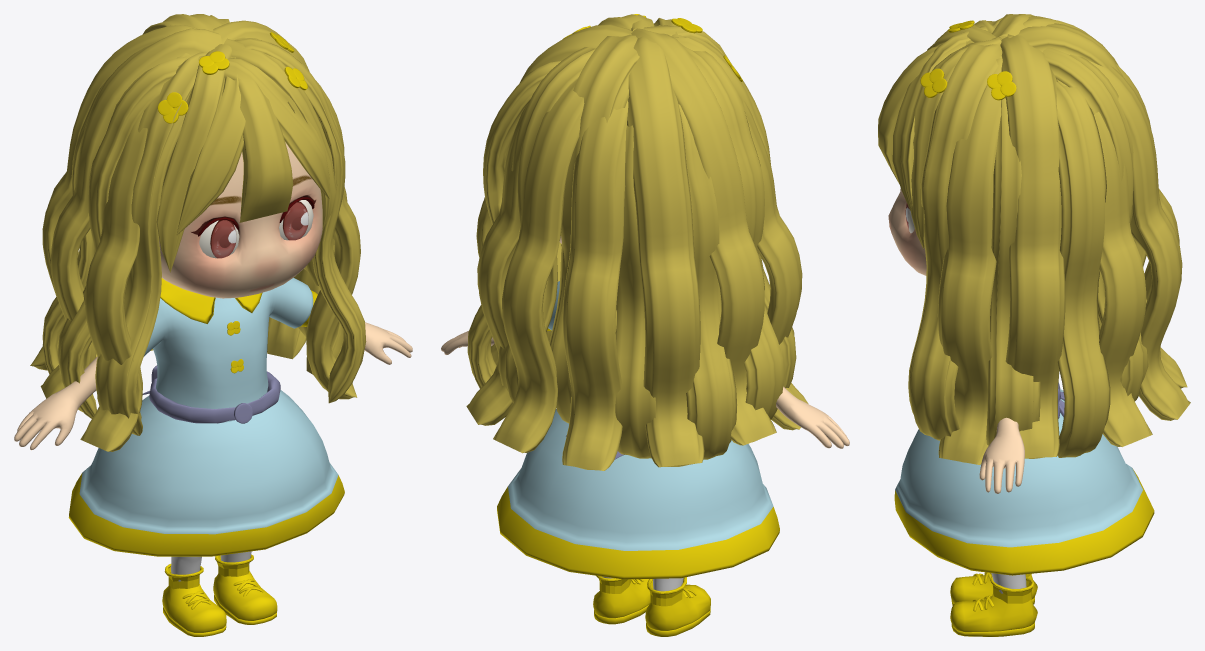
The model's file is Character.fbx.
3 renders of one model, left to right at view 1: azimuth 30°, elevation 25°; view 2: azimuth 150°, elevation 25°; view 3: azimuth 270°, elevation 25°, orthographic. The views are drawn at different scales.
Visible parts, largest first — view 1: polySurface108, pSphere1, polySurface59, polySurface26, polySurface135, polySurface139, pTorus1, polySurface33, polySurface19, polySurface85, polySurface62, pCylinder13; view 2: polySurface108, pSphere1, polySurface135, polySurface139, polySurface59; view 3: polySurface108, pSphere1, polySurface59, polySurface139, polySurface135, pCylinder15, pCylinder14, polySurface62.
Part boxes in pixels (box(x1,y1,x2,y2)): polySurface108: box(30, 14, 366, 451); pSphere1: box(68, 390, 344, 556); polySurface59: box(14, 142, 412, 450); polySurface26: box(144, 278, 317, 422); polySurface135: box(162, 564, 226, 636); polySurface139: box(213, 554, 277, 624); pTorus1: box(149, 371, 280, 423); polySurface33: box(160, 278, 262, 323); polySurface19: box(199, 220, 239, 258); polySurface85: box(279, 200, 313, 240); polySurface62: box(171, 551, 251, 581); pCylinder13: box(157, 92, 188, 123); polySurface108: box(466, 14, 808, 470); pSphere1: box(497, 409, 779, 579); polySurface135: box(645, 577, 710, 636); polySurface139: box(593, 575, 650, 624); polySurface59: box(441, 236, 849, 448); polySurface108: box(878, 14, 1190, 464); pSphere1: box(894, 389, 1154, 575); polySurface59: box(888, 188, 1024, 493); polySurface139: box(950, 576, 1037, 636); polySurface135: box(950, 572, 1037, 605); pCylinder15: box(987, 71, 1016, 100); pCylinder14: box(920, 68, 947, 97); polySurface62: box(991, 573, 1026, 593).
Size of the model in its own units: 24.57 by 34.61 by 16.62.
